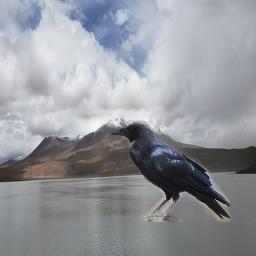Crow: (109, 120, 230, 222)
